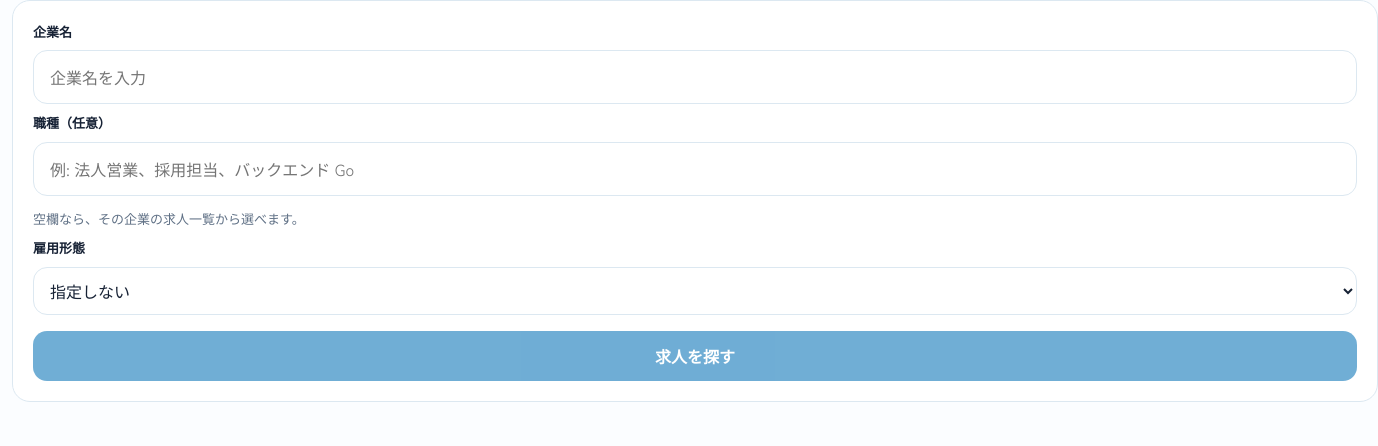
Test: an unavailable resolver points to direct URL input
Step 1. Type "サンプル" into the field labelled "企業名" → (695, 77), box [33,50,1357,104]
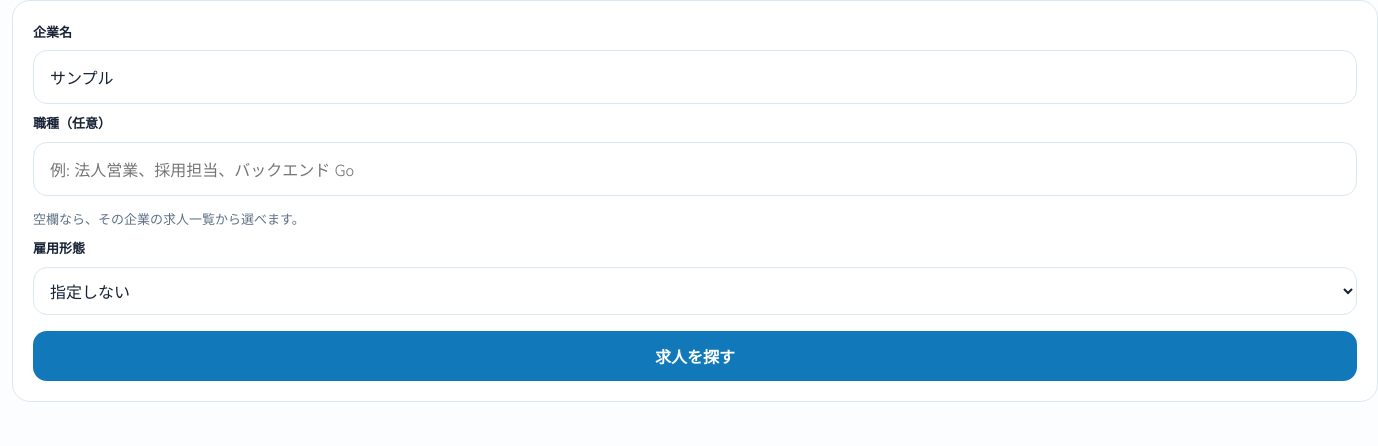
Step 2. Type "営業" into the field labelled "職種（任意）" → (695, 169), box [33,142,1357,196]
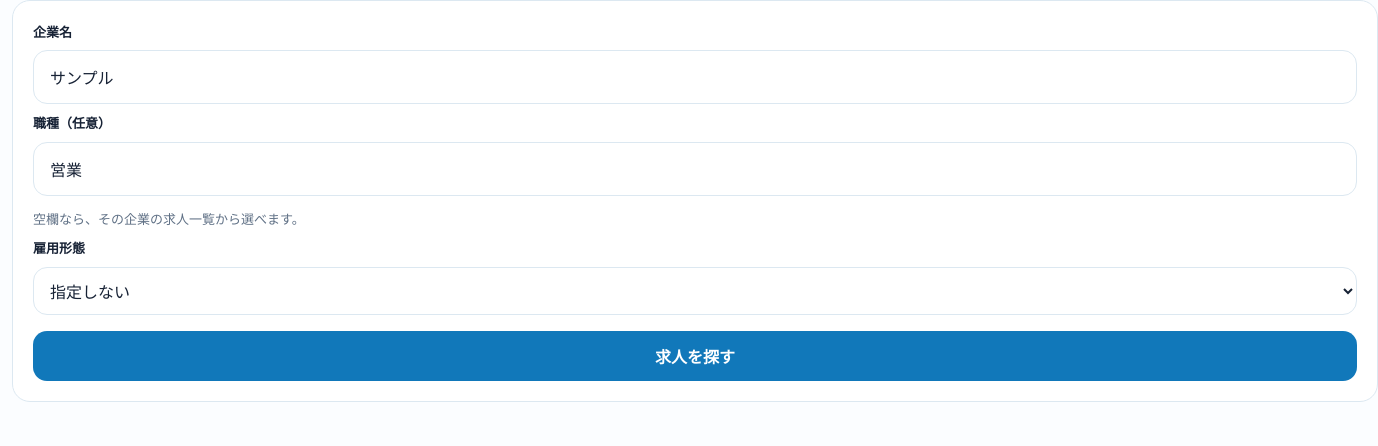
Step 3. Click the button "求人を探す" → (695, 356), box [33,331,1357,381]
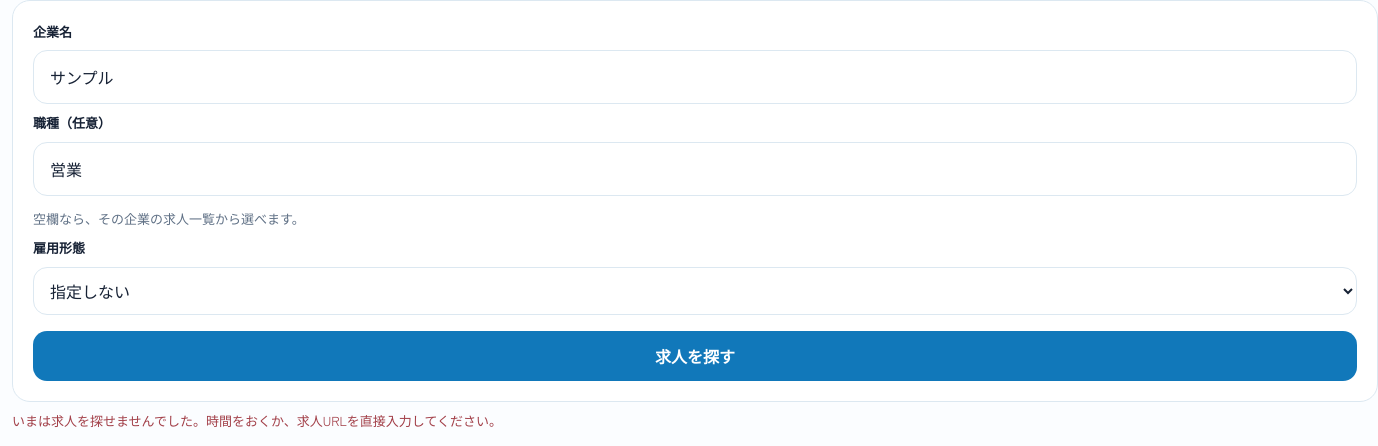
Now the message shows "求人URLを直接入力", box [12,411,502,430]
